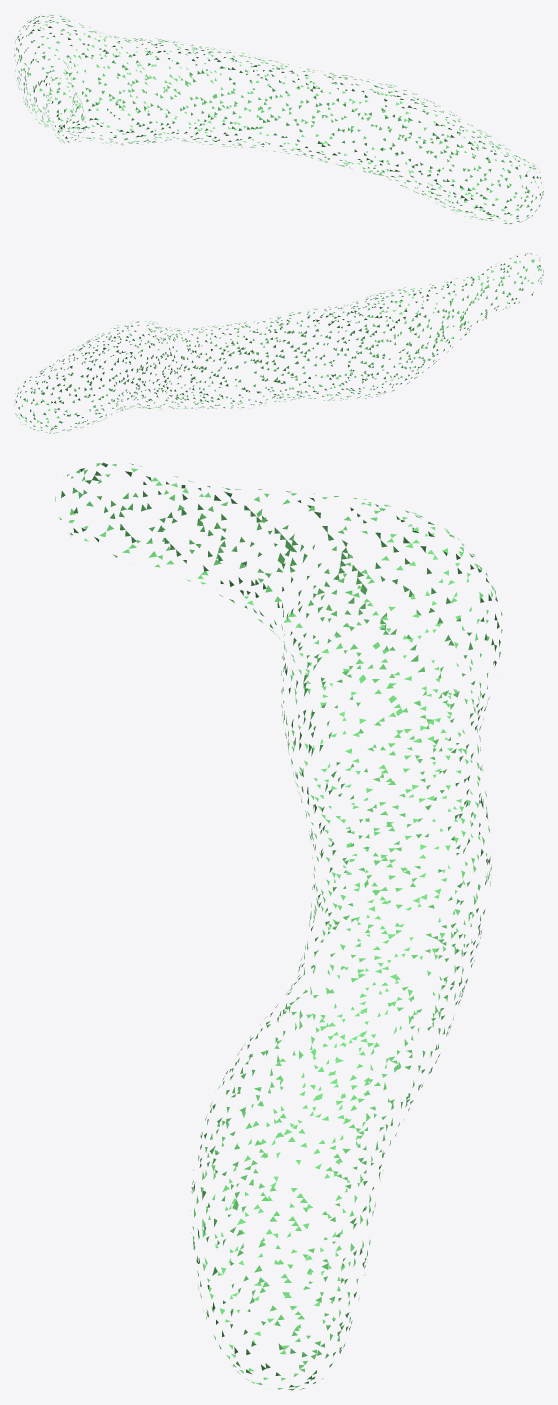
File: morph_018.glb
The picture shows the model from 3 angles, top to bottom: view 1: azimuth 30°, elevation 25°; view 2: azimuth 150°, elevation 25°; view 3: azimuth 270°, elevation 25°; orthographic projection. The views are drawn at different scales.
Bounding box in the file's own units: 108 × 54.76 × 44.17.
